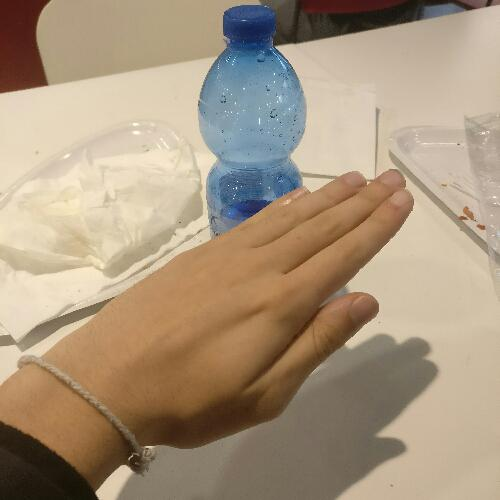paper: (22, 162, 434, 454)
